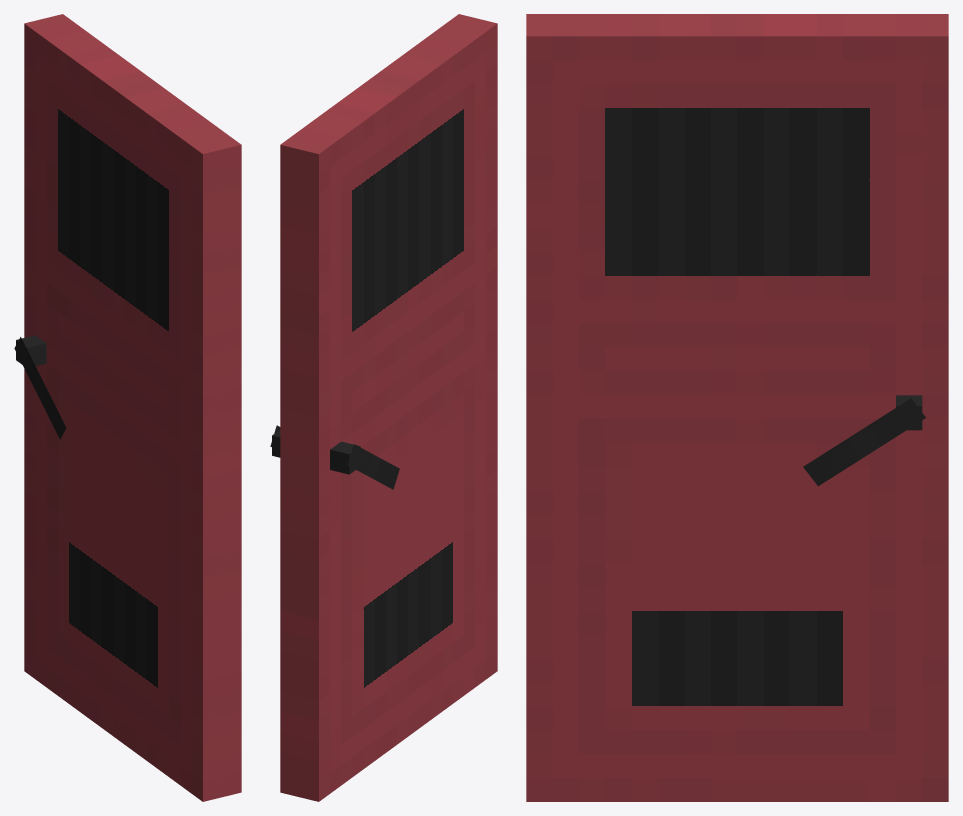
Rendered from Open.obj.
3 views of the same model, side by side, from view 1: azimuth 30°, elevation 25°; view 2: azimuth 150°, elevation 25°; view 3: azimuth 270°, elevation 25° (orthographic). The views are drawn at different scales.
Visible parts, largest first — view 1: cube; view 2: cube; view 3: cube.
Boxes of the visible parts, bbox=[...] form: cube: bbox=[14, 14, 241, 801]; cube: bbox=[270, 14, 497, 801]; cube: bbox=[526, 14, 948, 801].
Size of the model in its own units: 0.25 by 2 by 1.
